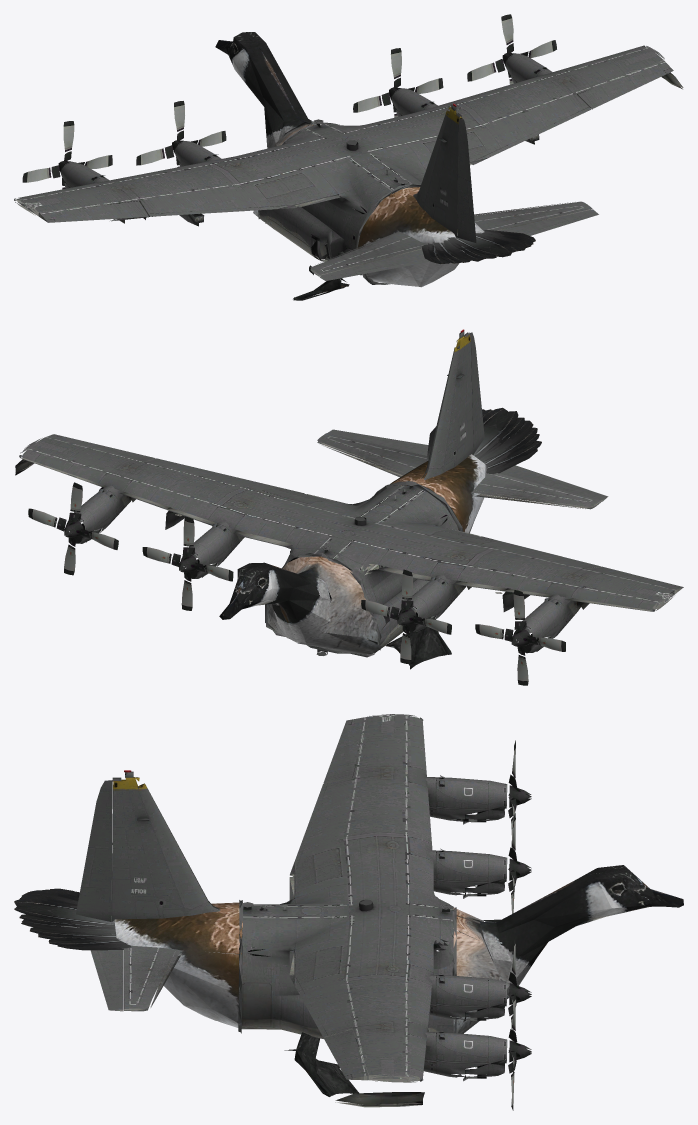
File: bombordiniBlender.fbx
3 renders of one model, top to bottom at view 1: azimuth 30°, elevation 25°; view 2: azimuth 150°, elevation 25°; view 3: azimuth 270°, elevation 25°, orthographic. The views are drawn at different scales.
Visible parts, largest first — view 1: Bomborbini; view 2: Bomborbini; view 3: Bomborbini.
Part boxes in pixels (x1=…): Bomborbini: x1=14, y1=14, x2=683, y2=300; Bomborbini: x1=15, y1=329, x2=683, y2=685; Bomborbini: x1=14, y1=714, x2=683, y2=1110.
Bounding box in the file's own units: 11654 × 4392 × 9020.
2 materials, 2 textured.
